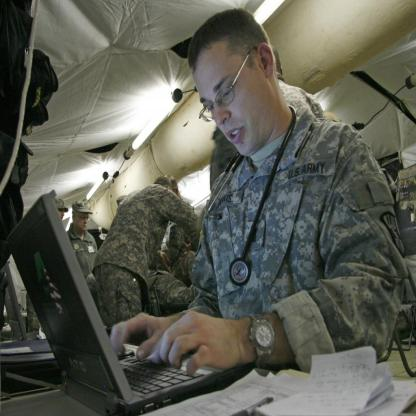board: (8, 193, 252, 416), (0, 261, 41, 341)
